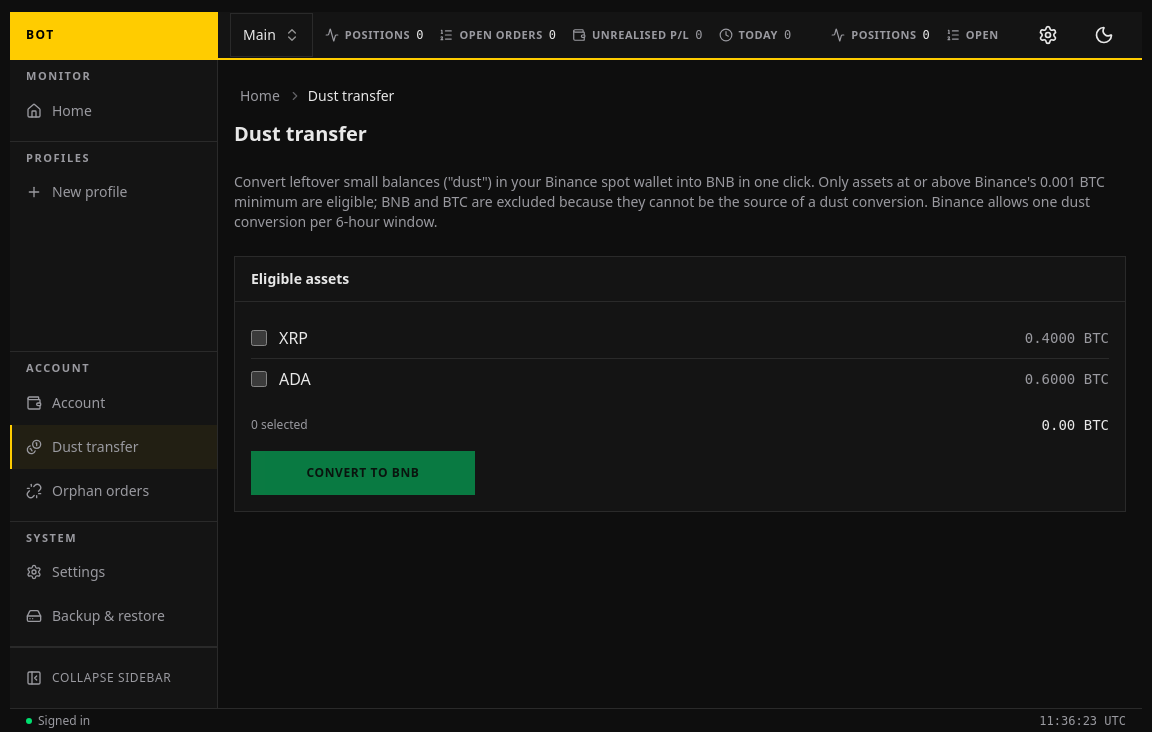
Test: DustTransferPage › formats the preview total through the same helper the rows use
Click the checkbox labelled "XRP".
click(259, 338)  # box [251,330,267,346]
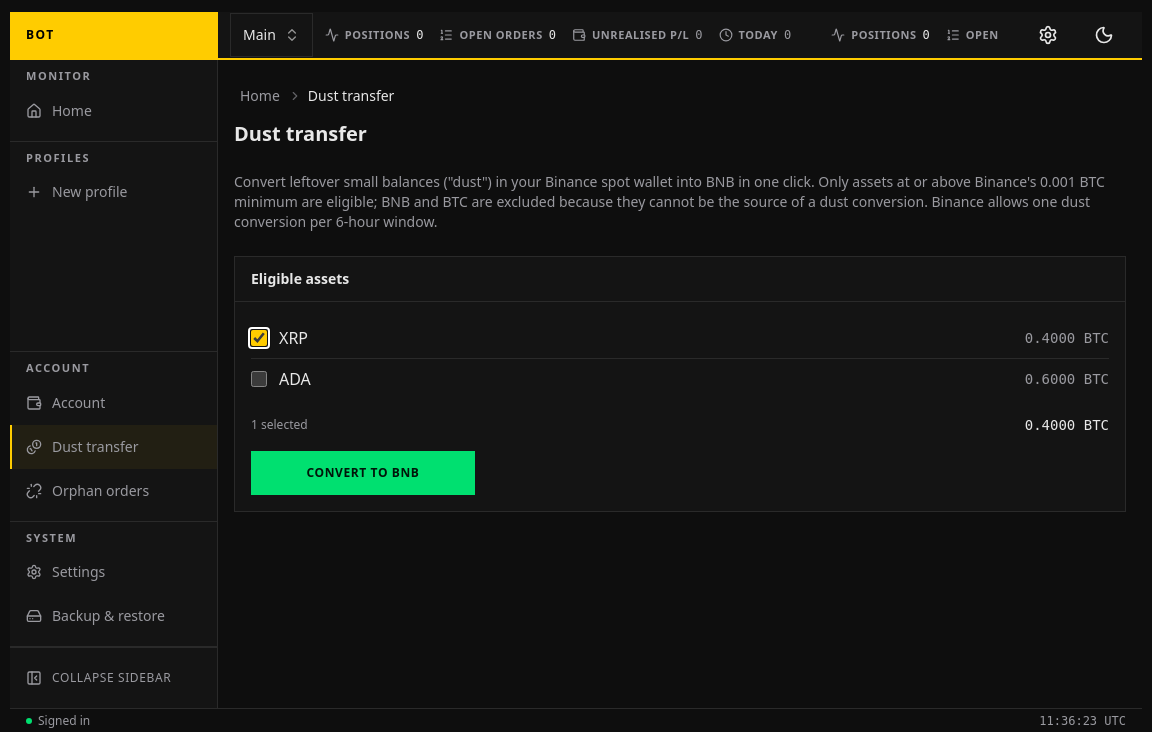
Click the checkbox labelled "ADA".
click(259, 379)  # box [251,371,267,387]
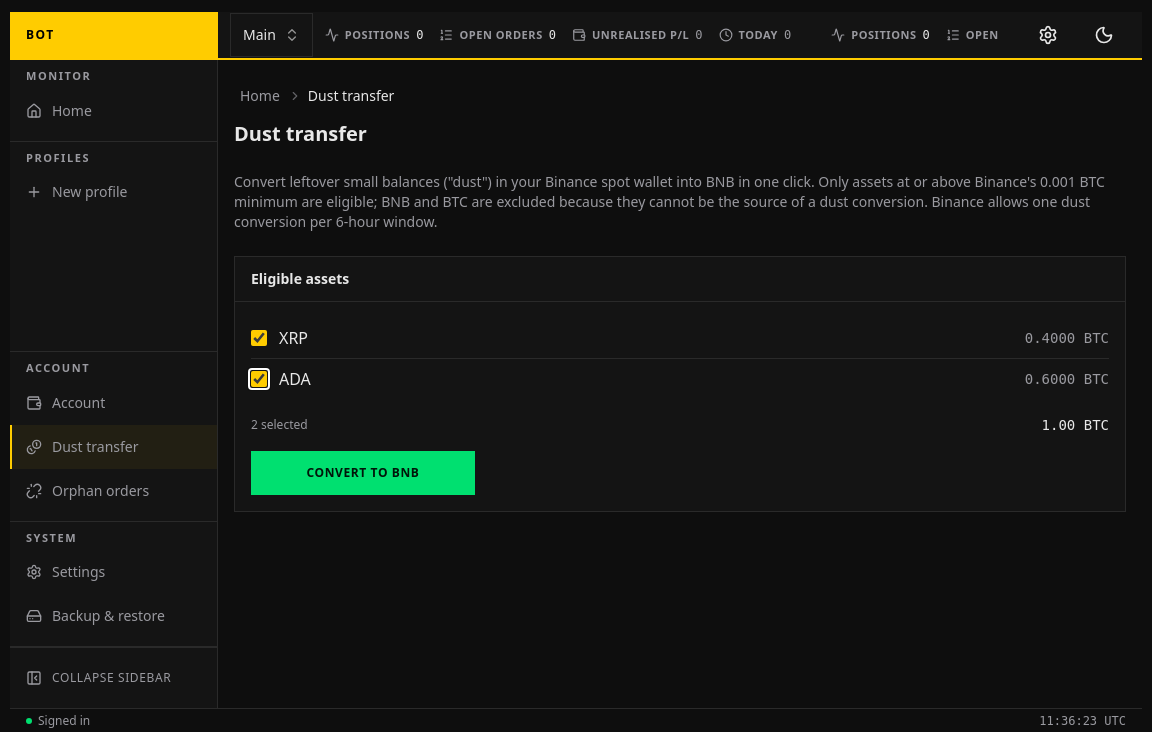
Check: the text "1.00 BTC" is shown, box [1042,415,1109,435]
